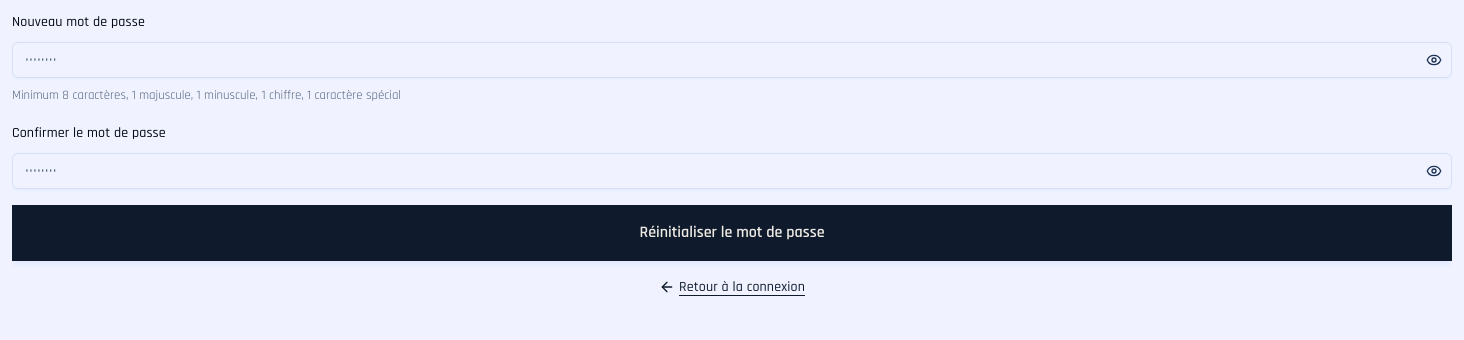
Test: ResetPasswordForm › Validation › shows error for weak password
Type "weak" into the password field with placeholder "••••••••" below "Nouveau mot de passe".
click(732, 60); type("weak")  # box [12,42,1452,78]
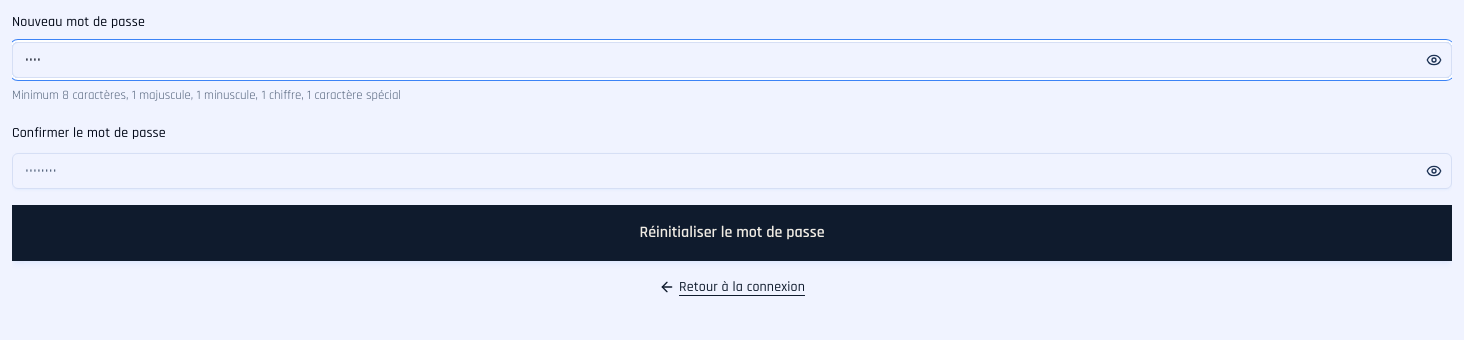
Type "weak" into the password field with placeholder "••••••••".
click(732, 171); type("weak")  # box [12,153,1452,189]
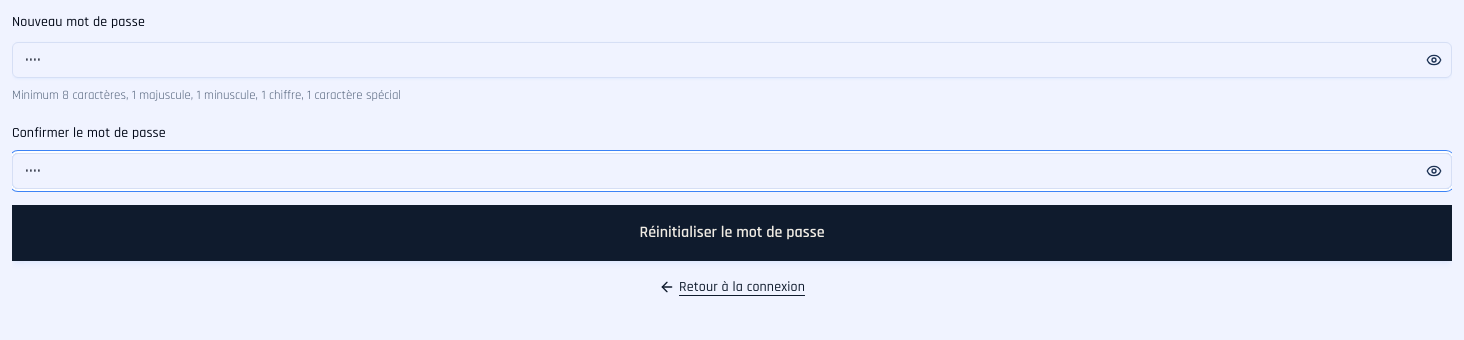
Click the button "Réinitialiser le mot de passe".
click(732, 233)  # box [12,205,1452,261]
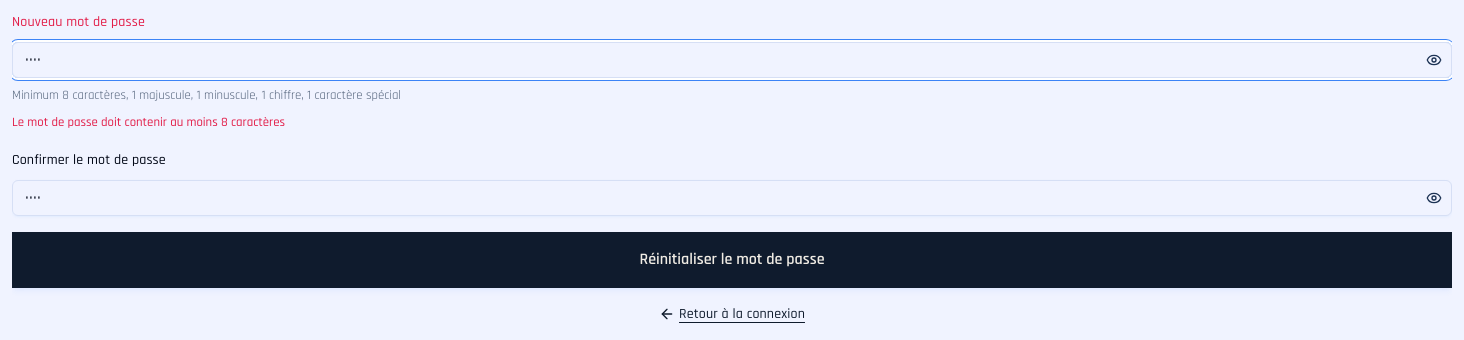
Result: the text "Le mot de passe doit contenir au moins 8 caractères" is shown at [12,114,285,130]
